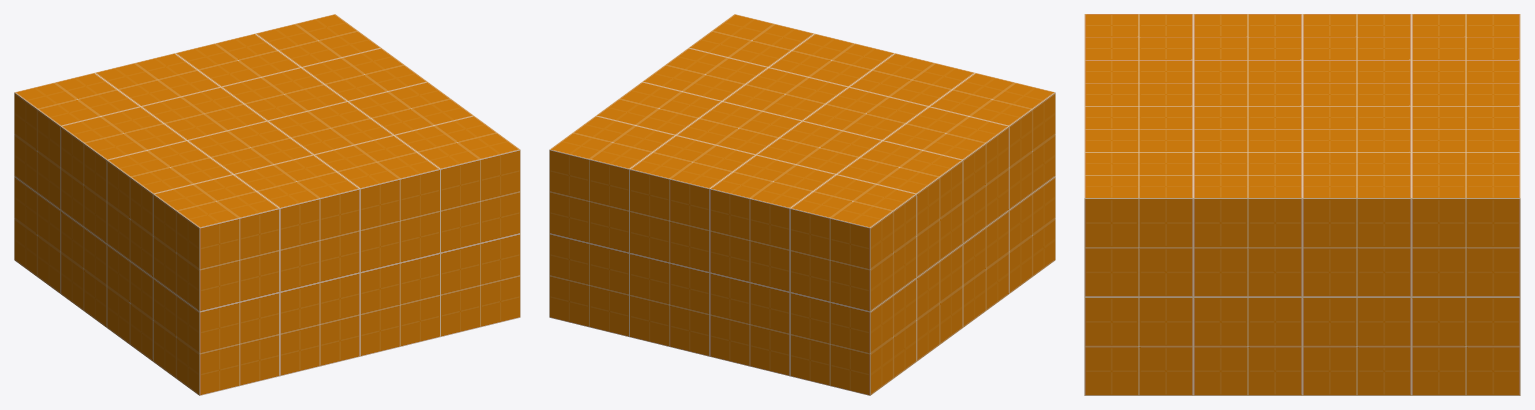
Rendered from Block_4x4x2.obj.
The picture shows the model from 3 angles, left to right: view 1: azimuth 30°, elevation 25°; view 2: azimuth 150°, elevation 25°; view 3: azimuth 270°, elevation 25°; orthographic projection. The views are drawn at different scales.
Visible parts, largest first — view 1: Block_4x4x2_Cube.197; view 2: Block_4x4x2_Cube.197; view 3: Block_4x4x2_Cube.197.
Part boxes in pixels (x1,y1,x2,y2): Block_4x4x2_Cube.197: [14, 14, 520, 395]; Block_4x4x2_Cube.197: [549, 14, 1055, 395]; Block_4x4x2_Cube.197: [1084, 14, 1520, 395].
Bounding box in the file's own units: 4 × 2 × 4.
1 material, 1 textured.
